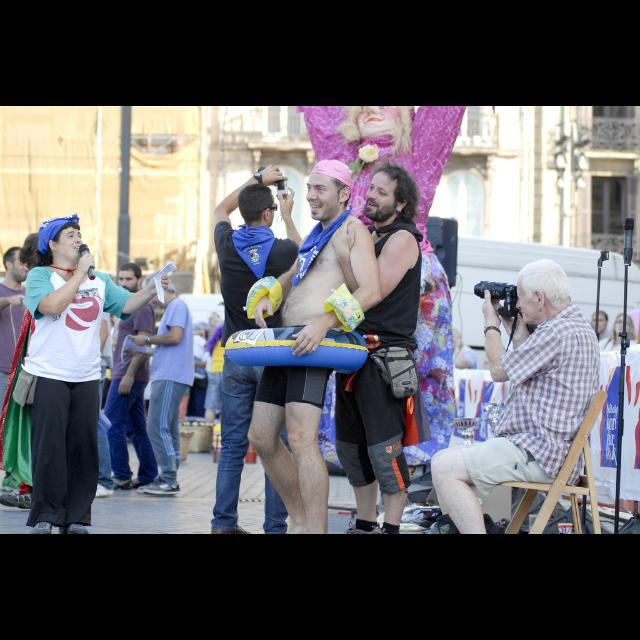Flower: (358, 143, 378, 163)
